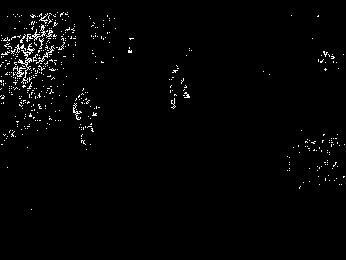person: (73, 89, 101, 148), (167, 65, 192, 112)
